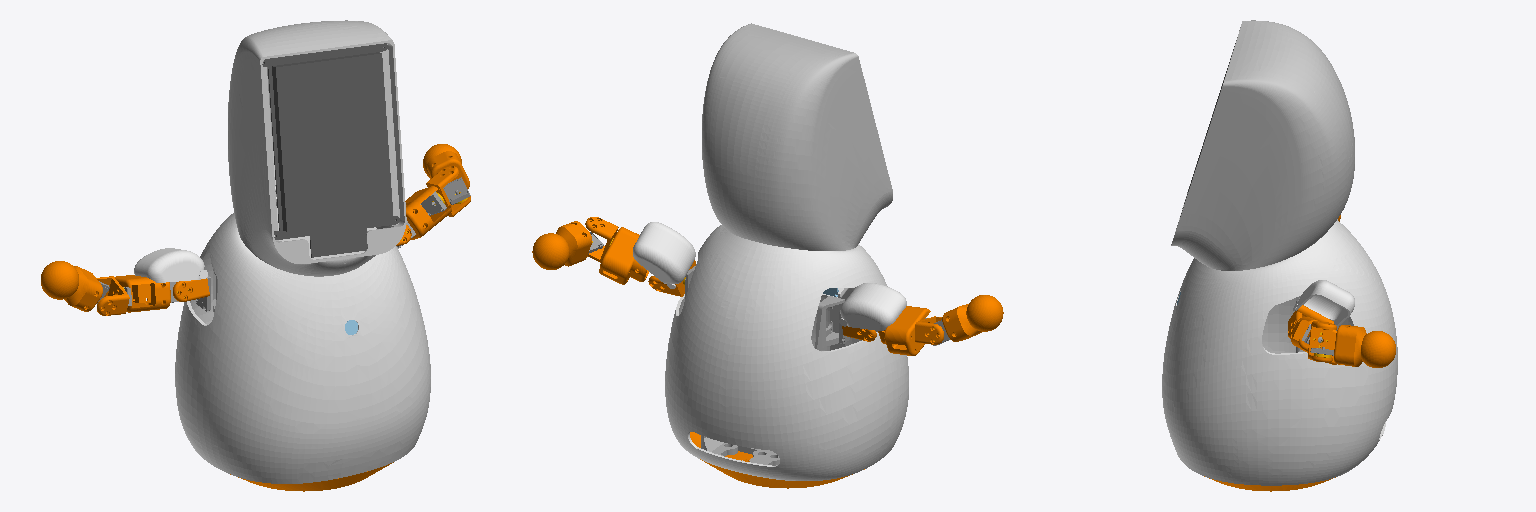
--- What the picture shows (computed from the rendered views, not written in the file) ---
The picture shows the robot from 3 angles, left to right: view 1: azimuth 30°, elevation 25°; view 2: azimuth 150°, elevation 25°; view 3: azimuth 270°, elevation 25°; orthographic projection.
Model simulation with 13 links and 12 joints (12 revolute), rooted at arm_left, posed every joint at zero.
Visible links, largest first — view 1: arm_left, display, xl330___assembly_4, shoulder_pad_2, xl330___assembly, xl330___assembly_3, xl330___assembly_2, elbow_2, elbow, right_shoulder; view 2: arm_left, display, shoulder_pad, shoulder_pad_2, xl330___assembly_2, xl330___assembly_4, xl330___assembly, xl330___assembly_3, elbow, elbow_2; view 3: arm_left, display, xl330___assembly_2, shoulder_pad, elbow, xl330___assembly.
Link boxes in pixels (x1=…): arm_left: x1=175, y1=186, x2=430, y2=491; display: x1=228, y1=20, x2=406, y2=276; xl330___assembly_4: x1=41, y1=261, x2=109, y2=311; shoulder_pad_2: x1=134, y1=248, x2=207, y2=282; xl330___assembly: x1=396, y1=186, x2=451, y2=248; xl330___assembly_3: x1=115, y1=275, x2=188, y2=312; xl330___assembly_2: x1=423, y1=144, x2=470, y2=204; elbow_2: x1=97, y1=276, x2=129, y2=315; elbow: x1=426, y1=166, x2=470, y2=216; right_shoulder: x1=173, y1=278, x2=209, y2=301; arm_left: x1=665, y1=225, x2=908, y2=488; display: x1=702, y1=23, x2=892, y2=250; shoulder_pad: x1=633, y1=222, x2=695, y2=288; shoulder_pad_2: x1=839, y1=283, x2=906, y2=330; xl330___assembly_2: x1=532, y1=221, x2=603, y2=269; xl330___assembly_4: x1=929, y1=295, x2=1003, y2=345; xl330___assembly: x1=599, y1=227, x2=648, y2=284; xl330___assembly_3: x1=878, y1=306, x2=930, y2=355; elbow: x1=585, y1=217, x2=618, y2=262; elbow_2: x1=915, y1=316, x2=943, y2=344; arm_left: x1=1162, y1=220, x2=1397, y2=491; display: x1=1171, y1=20, x2=1354, y2=270; xl330___assembly_2: x1=1310, y1=325, x2=1395, y2=367; shoulder_pad: x1=1293, y1=280, x2=1354, y2=326; elbow: x1=1308, y1=321, x2=1336, y2=362; xl330___assembly: x1=1290, y1=317, x2=1336, y2=364.
Bounding box of the posed robot: 0.4692 × 0.2191 × 0.425 m (x, y, z).
44 mesh visuals loaded from 24 distinct referenced files (20 binary STL); not drawn: 40 (reference not matched to a file when rendering).

URDF robot description (simulation):
<?xml version="1.0" ?>
<!-- Generated using onshape-to-robot -->
<!-- Onshape https://cad.onshape.com/documents/6693e038d6f5b2ee88eb0e81/w/837c8362b0b0bbf41939d6fd/e/ded7f450cb5bd722a96b42b6 -->
<robot name="simulation">
  <!-- Link arm_left -->
  <link name="arm_left">
    <inertial>
      <origin xyz="-3.17599e-06 0.00388989 0.0892117" rpy="0 0 0"/>
      <mass value="0.962064"/>
      <inertia ixx="0.00884827" ixy="5.89089e-07" ixz="-3.11485e-07" iyy="0.00920612" iyz="-0.000275057" izz="0.00704136"/>
    </inertial>
    <!-- Part arm_left -->
    <visual>
      <origin xyz="5.10009e-16 4.44089e-16 0.02" rpy="0 -0 3.14159"/>
      <geometry>
        <mesh filename="../meshes/stl/arm_left.stl"/>
      </geometry>
      <material name="arm_left_material">
        <color rgba="0.701961 0.701961 0.701961 1"/>
      </material>
    </visual>
    <collision>
      <origin xyz="5.10009e-16 4.44089e-16 0.02" rpy="0 -0 3.14159"/>
      <geometry>
        <mesh filename="../meshes/stl/arm_left.stl"/>
      </geometry>
    </collision>
    <!-- Part pi_mount -->
    <visual>
      <origin xyz="7.28584e-16 -2.498e-16 0.02" rpy="1.06331e-16 -4.37906e-47 3.14159"/>
      <geometry>
        <mesh filename="../meshes/stl/pi_mount.stl"/>
      </geometry>
      <material name="pi_mount_material">
        <color rgba="0.901961 0.878431 0.811765 1"/>
      </material>
    </visual>
    <collision>
      <origin xyz="7.28584e-16 -2.498e-16 0.02" rpy="1.06331e-16 -4.37906e-47 3.14159"/>
      <geometry>
        <mesh filename="../meshes/stl/pi_mount.stl"/>
      </geometry>
    </collision>
    <!-- Part arm_right -->
    <visual>
      <origin xyz="-4.996e-16 4.44089e-16 0.02" rpy="0 -0 3.14159"/>
      <geometry>
        <mesh filename="../meshes/stl/arm_right.stl"/>
      </geometry>
      <material name="arm_right_material">
        <color rgba="0.701961 0.701961 0.701961 1"/>
      </material>
    </visual>
    <collision>
      <origin xyz="-4.996e-16 4.44089e-16 0.02" rpy="0 -0 3.14159"/>
      <geometry>
        <mesh filename="../meshes/stl/arm_right.stl"/>
      </geometry>
    </collision>
    <!-- Part camera -->
    <visual>
      <origin xyz="-1.38778e-17 -0.0627719 0.157192" rpy="1.26238 -1.76456e-17 -1.89793e-32"/>
      <geometry>
        <mesh filename="../meshes/stl/camera.stl"/>
      </geometry>
      <material name="camera_material">
        <color rgba="0.615686 0.811765 0.929412 1"/>
      </material>
    </visual>
    <collision>
      <origin xyz="-1.38778e-17 -0.0627719 0.157192" rpy="1.26238 -1.76456e-17 -1.89793e-32"/>
      <geometry>
        <mesh filename="../meshes/stl/camera.stl"/>
      </geometry>
    </collision>
    <!-- Part motor_driver_mount -->
    <visual>
      <origin xyz="7.28584e-16 -2.498e-16 0.02" rpy="0 -0 3.14159"/>
      <geometry>
        <mesh filename="../meshes/stl/motor_driver_mount.stl"/>
      </geometry>
      <material name="motor_driver_mount_material">
        <color rgba="0.498039 0.498039 0.498039 1"/>
      </material>
    </visual>
    <collision>
      <origin xyz="7.28584e-16 -2.498e-16 0.02" rpy="0 -0 3.14159"/>
      <geometry>
        <mesh filename="../meshes/stl/motor_driver_mount.stl"/>
      </geometry>
    </collision>
    <!-- Part body -->
    <visual>
      <origin xyz="-1.73472e-17 -1.66533e-16 0.02" rpy="0 -0 -3.14159"/>
      <geometry>
        <mesh filename="../meshes/stl/body.stl"/>
      </geometry>
      <material name="body_material">
        <color rgba="0.917647 0.917647 0.917647 1"/>
      </material>
    </visual>
    <collision>
      <origin xyz="-1.73472e-17 -1.66533e-16 0.02" rpy="0 -0 -3.14159"/>
      <geometry>
        <mesh filename="../meshes/stl/body.stl"/>
      </geometry>
    </collision>
    <!-- Part base -->
    <visual>
      <origin xyz="0 0 0.02" rpy="0 -0 3.14159"/>
      <geometry>
        <mesh filename="../meshes/stl/base.stl"/>
      </geometry>
      <material name="base_material">
        <color rgba="0.972549 0.529412 0.00392157 1"/>
      </material>
    </visual>
    <collision>
      <origin xyz="0 0 0.02" rpy="0 -0 3.14159"/>
      <geometry>
        <mesh filename="../meshes/stl/base.stl"/>
      </geometry>
    </collision>
    <!-- Part b3b_eh -->
    <visual>
      <origin xyz="0.0721 0.0432 0.170517" rpy="-1.5708 1.5708 0"/>
      <geometry>
        <mesh filename="../meshes/stl/b3b_eh.stl"/>
      </geometry>
      <material name="b3b_eh_material">
        <color rgba="0.980392 0.713725 0.00392157 1"/>
      </material>
    </visual>
    <collision>
      <origin xyz="0.0721 0.0432 0.170517" rpy="-1.5708 1.5708 0"/>
      <geometry>
        <mesh filename="../meshes/stl/b3b_eh.stl"/>
      </geometry>
    </collision>
    <!-- Part bts2_m2_6x8 -->
    <visual>
      <origin xyz="0.0874 0.0355 0.179517" rpy="0 -0 -1.5708"/>
      <geometry>
        <mesh filename="../meshes/stl/bts2_m2_6x8.stl"/>
      </geometry>
      <material name="bts2_m2_6x8_material">
        <color rgba="0.647059 0.647059 0.647059 1"/>
      </material>
    </visual>
    <collision>
      <origin xyz="0.0874 0.0355 0.179517" rpy="0 -0 -1.5708"/>
      <geometry>
        <mesh filename="../meshes/stl/bts2_m2_6x8.stl"/>
      </geometry>
    </collision>
    <!-- Part dc15_a01_case_b_dummy -->
    <visual>
      <origin xyz="0.063 0.0355 0.179517" rpy="1.5708 -0 1.5708"/>
      <geometry>
        <mesh filename="../meshes/stl/dc15_a01_case_b_dummy.stl"/>
      </geometry>
      <material name="dc15_a01_case_b_dummy_material">
        <color rgba="0.615686 0.811765 0.929412 1"/>
      </material>
    </visual>
    <collision>
      <origin xyz="0.063 0.0355 0.179517" rpy="1.5708 -0 1.5708"/>
      <geometry>
        <mesh filename="../meshes/stl/dc15_a01_case_b_dummy.stl"/>
      </geometry>
    </collision>
    <!-- Part b3b_eh_2 -->
    <visual>
      <origin xyz="0.0721 0.0278 0.170517" rpy="1.5708 -1.5708 0"/>
      <geometry>
        <mesh filename="../meshes/stl/b3b_eh.stl"/>
      </geometry>
      <material name="b3b_eh_2_material">
        <color rgba="0.980392 0.713725 0.00392157 1"/>
      </material>
    </visual>
    <collision>
      <origin xyz="0.0721 0.0278 0.170517" rpy="1.5708 -1.5708 0"/>
      <geometry>
        <mesh filename="../meshes/stl/b3b_eh.stl"/>
      </geometry>
    </collision>
    <!-- Part dc15_a01_case_m_dummy -->
    <visual>
      <origin xyz="0.0825 0.0355 0.179517" rpy="1.5708 -0 1.5708"/>
      <geometry>
        <mesh filename="../meshes/stl/dc15_a01_case_m_dummy.stl"/>
      </geometry>
      <material name="dc15_a01_case_m_dummy_material">
        <color rgba="0.231373 0.380392 0.705882 1"/>
      </material>
    </visual>
    <collision>
      <origin xyz="0.0825 0.0355 0.179517" rpy="1.5708 -0 1.5708"/>
      <geometry>
        <mesh filename="../meshes/stl/dc15_a01_case_m_dummy.stl"/>
      </geometry>
    </collision>
    <!-- Part dc15_a01_case_f_dummy -->
    <visual>
      <origin xyz="0.0825 0.0355 0.179517" rpy="1.5708 -0 1.5708"/>
      <geometry>
        <mesh filename="../meshes/stl/dc15_a01_case_f_dummy.stl"/>
      </geometry>
      <material name="dc15_a01_case_f_dummy_material">
        <color rgba="0.647059 0.647059 0.647059 1"/>
      </material>
    </visual>
    <collision>
      <origin xyz="0.0825 0.0355 0.179517" rpy="1.5708 -0 1.5708"/>
      <geometry>
        <mesh filename="../meshes/stl/dc15_a01_case_f_dummy.stl"/>
      </geometry>
    </collision>
    <!-- Part dc15_a01_led_cap2_dummy -->
    <visual>
      <origin xyz="0.0649 0.0355 0.187017" rpy="1.5708 -0 -1.5708"/>
      <geometry>
        <mesh filename="../meshes/stl/dc15_a01_led_cap2_dummy.stl"/>
      </geometry>
      <material name="dc15_a01_led_cap2_dummy_material">
        <color rgba="0.498039 0.498039 0.498039 1"/>
      </material>
    </visual>
    <collision>
      <origin xyz="0.0649 0.0355 0.187017" rpy="1.5708 -0 -1.5708"/>
      <geometry>
        <mesh filename="../meshes/stl/dc15_a01_led_cap2_dummy.stl"/>
      </geometry>
    </collision>
    <!-- Part dc15_a01_horn_dummy -->
    <visual>
      <origin xyz="0.0861 0.0355 0.179517" rpy="0 -0 -1.5708"/>
      <geometry>
        <mesh filename="../meshes/stl/dc15_a01_horn_dummy.stl"/>
      </geometry>
      <material name="dc15_a01_horn_dummy_material">
        <color rgba="0.980392 0.713725 0.00392157 1"/>
      </material>
    </visual>
    <collision>
      <origin xyz="0.0861 0.0355 0.179517" rpy="0 -0 -1.5708"/>
      <geometry>
        <mesh filename="../meshes/stl/dc15_a01_horn_dummy.stl"/>
      </geometry>
    </collision>
    <!-- Part b3b_eh_3 -->
    <visual>
      <origin xyz="-0.0721 0.0278 0.170517" rpy="1.5708 1.5708 0"/>
      <geometry>
        <mesh filename="../meshes/stl/b3b_eh.stl"/>
      </geometry>
      <material name="b3b_eh_3_material">
        <color rgba="0.980392 0.713725 0.00392157 1"/>
      </material>
    </visual>
    <collision>
      <origin xyz="-0.0721 0.0278 0.170517" rpy="1.5708 1.5708 0"/>
      <geometry>
        <mesh filename="../meshes/stl/b3b_eh.stl"/>
      </geometry>
    </collision>
    <!-- Part bts2_m2_6x8_2 -->
    <visual>
      <origin xyz="-0.0874 0.0355 0.179517" rpy="6.88338e-14 2.44249e-15 1.5708"/>
      <geometry>
        <mesh filename="../meshes/stl/bts2_m2_6x8.stl"/>
      </geometry>
      <material name="bts2_m2_6x8_2_material">
        <color rgba="0.647059 0.647059 0.647059 1"/>
      </material>
    </visual>
    <collision>
      <origin xyz="-0.0874 0.0355 0.179517" rpy="6.88338e-14 2.44249e-15 1.5708"/>
      <geometry>
        <mesh filename="../meshes/stl/bts2_m2_6x8.stl"/>
      </geometry>
    </collision>
    <!-- Part dc15_a01_case_b_dummy_2 -->
    <visual>
      <origin xyz="-0.063 0.0355 0.179517" rpy="1.5708 -4.35611e-60 -1.5708"/>
      <geometry>
        <mesh filename="../meshes/stl/dc15_a01_case_b_dummy.stl"/>
      </geometry>
      <material name="dc15_a01_case_b_dummy_2_material">
        <color rgba="0.615686 0.811765 0.929412 1"/>
      </material>
    </visual>
    <collision>
      <origin xyz="-0.063 0.0355 0.179517" rpy="1.5708 -4.35611e-60 -1.5708"/>
      <geometry>
        <mesh filename="../meshes/stl/dc15_a01_case_b_dummy.stl"/>
      </geometry>
    </collision>
    <!-- Part b3b_eh_4 -->
    <visual>
      <origin xyz="-0.0721 0.0432 0.170517" rpy="-1.5708 -1.5708 0"/>
      <geometry>
        <mesh filename="../meshes/stl/b3b_eh.stl"/>
      </geometry>
      <material name="b3b_eh_4_material">
        <color rgba="0.980392 0.713725 0.00392157 1"/>
      </material>
    </visual>
    <collision>
      <origin xyz="-0.0721 0.0432 0.170517" rpy="-1.5708 -1.5708 0"/>
      <geometry>
        <mesh filename="../meshes/stl/b3b_eh.stl"/>
      </geometry>
    </collision>
    <!-- Part dc15_a01_case_m_dummy_2 -->
    <visual>
      <origin xyz="-0.0825 0.0355 0.179517" rpy="1.5708 -4.35611e-60 -1.5708"/>
      <geometry>
        <mesh filename="../meshes/stl/dc15_a01_case_m_dummy.stl"/>
      </geometry>
      <material name="dc15_a01_case_m_dummy_2_material">
        <color rgba="0.231373 0.380392 0.705882 1"/>
      </material>
    </visual>
    <collision>
      <origin xyz="-0.0825 0.0355 0.179517" rpy="1.5708 -4.35611e-60 -1.5708"/>
      <geometry>
        <mesh filename="../meshes/stl/dc15_a01_case_m_dummy.stl"/>
      </geometry>
    </collision>
    <!-- Part dc15_a01_case_f_dummy_2 -->
    <visual>
      <origin xyz="-0.0825 0.0355 0.179517" rpy="1.5708 -4.35611e-60 -1.5708"/>
      <geometry>
        <mesh filename="../meshes/stl/dc15_a01_case_f_dummy.stl"/>
      </geometry>
      <material name="dc15_a01_case_f_dummy_2_material">
        <color rgba="0.647059 0.647059 0.647059 1"/>
      </material>
    </visual>
    <collision>
      <origin xyz="-0.0825 0.0355 0.179517" rpy="1.5708 -4.35611e-60 -1.5708"/>
      <geometry>
        <mesh filename="../meshes/stl/dc15_a01_case_f_dummy.stl"/>
      </geometry>
    </collision>
    <!-- Part dc15_a01_led_cap2_dummy_2 -->
    <visual>
      <origin xyz="-0.0649 0.0355 0.187017" rpy="1.5708 4.88498e-15 1.5708"/>
      <geometry>
        <mesh filename="../meshes/stl/dc15_a01_led_cap2_dummy.stl"/>
      </geometry>
      <material name="dc15_a01_led_cap2_dummy_2_material">
        <color rgba="0.498039 0.498039 0.498039 1"/>
      </material>
    </visual>
    <collision>
      <origin xyz="-0.0649 0.0355 0.187017" rpy="1.5708 4.88498e-15 1.5708"/>
      <geometry>
        <mesh filename="../meshes/stl/dc15_a01_led_cap2_dummy.stl"/>
      </geometry>
    </collision>
    <!-- Part dc15_a01_horn_dummy_2 -->
    <visual>
      <origin xyz="-0.0861 0.0355 0.179517" rpy="6.88338e-14 2.44249e-15 1.5708"/>
      <geometry>
        <mesh filename="../meshes/stl/dc15_a01_horn_dummy.stl"/>
      </geometry>
      <material name="dc15_a01_horn_dummy_2_material">
        <color rgba="0.980392 0.713725 0.00392157 1"/>
      </material>
    </visual>
    <collision>
      <origin xyz="-0.0861 0.0355 0.179517" rpy="6.88338e-14 2.44249e-15 1.5708"/>
      <geometry>
        <mesh filename="../meshes/stl/dc15_a01_horn_dummy.stl"/>
      </geometry>
    </collision>
  </link>
  <!-- Link display -->
  <link name="display">
    <inertial>
      <origin xyz="-5.0686e-05 0.0320592 -0.0801634" rpy="0 0 0"/>
      <mass value="0.287619"/>
      <inertia ixx="0.001846" ixy="-2.13799e-06" ixz="2.00667e-06" iyy="0.00175482" iyz="0.000397546" izz="0.00143822"/>
    </inertial>
    <!-- Part display -->
    <visual>
      <origin xyz="-4.14599e-16 -0.0108406 -0.114141" rpy="-2.1283 -4.78151e-17 -3.14159"/>
      <geometry>
        <mesh filename="../meshes/stl/display.stl"/>
      </geometry>
      <material name="display_material">
        <color rgba="0.4 0.4 0.4 1"/>
      </material>
    </visual>
    <collision>
      <origin xyz="-4.14599e-16 -0.0108406 -0.114141" rpy="-2.1283 -4.78151e-17 -3.14159"/>
      <geometry>
        <mesh filename="../meshes/stl/display.stl"/>
      </geometry>
    </collision>
    <!-- Part head -->
    <visual>
      <origin xyz="5.20417e-18 -0.0513986 0.201124" rpy="-2.86234 7.74024e-17 -9.29875e-18"/>
      <geometry>
        <mesh filename="../meshes/stl/head.stl"/>
      </geometry>
      <material name="head_material">
        <color rgba="0.8 0.8 0.8 1"/>
      </material>
    </visual>
    <collision>
      <origin xyz="5.20417e-18 -0.0513986 0.201124" rpy="-2.86234 7.74024e-17 -9.29875e-18"/>
      <geometry>
        <mesh filename="../meshes/stl/head.stl"/>
      </geometry>
    </collision>
  </link>
  <!-- Joint from arm_left to display -->
  <joint name="head" type="revolute">
    <origin xyz="-2.94903e-17 -0.00602975 0.2275" rpy="2.86514 -0.0399496 3.00174"/>
    <parent link="arm_left"/>
    <child link="display"/>
    <axis xyz="0 0 1"/>
    <limit effort="10" velocity="10" lower="-3.141592653589793" upper="3.141592653589793"/>
  </joint>
  <!-- Link rotating_base -->
  <link name="rotating_base">
    <inertial>
      <origin xyz="6.62756e-19 -4.65067e-18 -0.0063788" rpy="0 0 0"/>
      <mass value="0.0534583"/>
      <inertia ixx="5.94455e-05" ixy="0" ixz="0" iyy="5.94455e-05" iyz="0" izz="0.000118754"/>
    </inertial>
    <!-- Part rotating_base -->
    <visual>
      <origin xyz="0 -5.20475e-19 0.012" rpy="0 -0 3.14159"/>
      <geometry>
        <mesh filename="../meshes/stl/rotating_base.stl"/>
      </geometry>
      <material name="rotating_base_material">
        <color rgba="0.917647 0.917647 0.917647 1"/>
      </material>
    </visual>
    <collision>
      <origin xyz="0 -5.20475e-19 0.012" rpy="0 -0 3.14159"/>
      <geometry>
        <mesh filename="../meshes/stl/rotating_base.stl"/>
      </geometry>
    </collision>
  </link>
  <!-- Joint from arm_left to rotating_base -->
  <joint name="base" type="revolute">
    <origin xyz="0 -5.20475e-19 0.008" rpy="0 -0 3.14159"/>
    <parent link="arm_left"/>
    <child link="rotating_base"/>
    <axis xyz="0 0 1"/>
    <limit effort="10" velocity="10" lower="-3.141592653589793" upper="3.141592653589793"/>
  </joint>
  <!-- Link left_shoulder -->
  <link name="left_shoulder">
    <inertial>
      <origin xyz="0.000954891 0.00228907 -0.0110516" rpy="0 0 0"/>
      <mass value="0.0105595"/>
      <inertia ixx="1.49349e-06" ixy="-1.08642e-09" ixz="-1.06526e-08" iyy="2.9353e-06" iyz="-1.55193e-07" izz="2.46233e-06"/>
    </inertial>
    <!-- Part left_shoulder -->
    <visual>
      <origin xyz="0.0355 -0.179517 0.089" rpy="-1.5708 -1.5708 0"/>
      <geometry>
        <mesh filename="../meshes/stl/left_shoulder.stl"/>
      </geometry>
      <material name="left_shoulder_material">
        <color rgba="0.972549 0.529412 0.00392157 1"/>
      </material>
    </visual>
    <collision>
      <origin xyz="0.0355 -0.179517 0.089" rpy="-1.5708 -1.5708 0"/>
      <geometry>
        <mesh filename="../meshes/stl/left_shoulder.stl"/>
      </geometry>
    </collision>
  </link>
  <!-- Link shoulder_pad -->
  <link name="shoulder_pad">
    <inertial>
      <origin xyz="0.0249562 0.0106205 -0.017979" rpy="0 0 0"/>
      <mass value="0.0123034"/>
      <inertia ixx="3.51415e-06" ixy="3.49578e-07" ixz="-3.32541e-09" iyy="6.33798e-06" iyz="1.93855e-09" izz="4.31141e-06"/>
    </inertial>
    <!-- Part shoulder_pad -->
    <visual>
      <origin xyz="-0.0935 -0.191017 -0.0525" rpy="-1.5708 2.18947e-17 1.35963e-17"/>
      <geometry>
        <mesh filename="../meshes/stl/shoulder_pad.stl"/>
      </geometry>
      <material name="shoulder_pad_material">
        <color rgba="0.917647 0.917647 0.917647 1"/>
      </material>
    </visual>
    <collision>
      <origin xyz="-0.0935 -0.191017 -0.0525" rpy="-1.5708 2.18947e-17 1.35963e-17"/>
      <geometry>
        <mesh filename="../meshes/stl/shoulder_pad.stl"/>
      </geometry>
    </collision>
  </link>
  <!-- Joint from left_shoulder to shoulder_pad -->
  <joint name="left_shoulder_pad" type="revolute">
    <origin xyz="0.0189997 0.0115 -0.0045" rpy="1.5708 0.676598 1.5708"/>
    <parent link="left_shoulder"/>
    <child link="shoulder_pad"/>
    <axis xyz="0 0 1"/>
    <limit effort="10" velocity="10" lower="-3.141592653589793" upper="3.141592653589793"/>
  </joint>
  <!-- Link xl330___assembly -->
  <link name="xl330___assembly">
    <inertial>
      <origin xyz="-6.8305e-06 0.0295432 -0.0158499" rpy="0 0 0"/>
      <mass value="0.0655349"/>
      <inertia ixx="3.34493e-05" ixy="7.73712e-11" ixz="-1.54866e-09" iyy="1.25704e-05" iyz="4.35359e-06" izz="2.88274e-05"/>
    </inertial>
    <!-- Part left_upperarm -->
    <visual>
      <origin xyz="0.179517 -0.1135 0.0218003" rpy="1.5708 -5.1276e-14 -1.5708"/>
      <geometry>
        <mesh filename="../meshes/stl/left_upperarm.stl"/>
      </geometry>
      <material name="left_upperarm_material">
        <color rgba="0.972549 0.529412 0.00392157 1"/>
      </material>
    </visual>
    <collision>
      <origin xyz="0.179517 -0.1135 0.0218003" rpy="1.5708 -5.1276e-14 -1.5708"/>
      <geometry>
        <mesh filename="../meshes/stl/left_upperarm.stl"/>
      </geometry>
    </collision>
    <!-- Part b3b_eh_5 -->
    <visual>
      <origin xyz="-0.0077 0.0407 -0.0212" rpy="-3.14159 1.5708 0"/>
      <geometry>
        <mesh filename="../meshes/stl/b3b_eh.stl"/>
      </geometry>
      <material name="b3b_eh_5_material">
        <color rgba="0.980392 0.713725 0.00392157 1"/>
      </material>
    </visual>
    <collision>
      <origin xyz="-0.0077 0.0407 -0.0212" rpy="-3.14159 1.5708 0"/>
      <geometry>
        <mesh filename="../meshes/stl/b3b_eh.stl"/>
      </geometry>
    </collision>
    <!-- Part bts2_m2_6x8_3 -->
    <visual>
      <origin xyz="1.65371e-10 0.056 -0.0122" rpy="-7.66111e-14 4.81558e-15 -4.33951e-13"/>
      <geometry>
        <mesh filename="../meshes/stl/bts2_m2_6x8.stl"/>
      </geometry>
      <material name="bts2_m2_6x8_3_material">
        <color rgba="0.647059 0.647059 0.647059 1"/>
      </material>
    </visual>
    <collision>
      <origin xyz="1.65371e-10 0.056 -0.0122" rpy="-7.66111e-14 4.81558e-15 -4.33951e-13"/>
      <geometry>
        <mesh filename="../meshes/stl/bts2_m2_6x8.stl"/>
      </geometry>
    </collision>
    <!-- Part dc15_a01_case_b_dummy_3 -->
    <visual>
      <origin xyz="1.65363e-10 0.0316 -0.0122" rpy="1.5708 5.98975e-15 3.14159"/>
      <geometry>
        <mesh filename="../meshes/stl/dc15_a01_case_b_dummy.stl"/>
      </geometry>
      <material name="dc15_a01_case_b_dummy_3_material">
        <color rgba="0.615686 0.811765 0.929412 1"/>
      </material>
    </visual>
    <collision>
      <origin xyz="1.65363e-10 0.0316 -0.0122" rpy="1.5708 5.98975e-15 3.14159"/>
      <geometry>
        <mesh filename="../meshes/stl/dc15_a01_case_b_dummy.stl"/>
      </geometry>
    </collision>
    <!-- Part b3b_eh_6 -->
    <visual>
      <origin xyz="0.0077 0.0407 -0.0212" rpy="3.14159 -1.5708 0"/>
      <geometry>
        <mesh filename="../meshes/stl/b3b_eh.stl"/>
      </geometry>
      <material name="b3b_eh_6_material">
        <color rgba="0.980392 0.713725 0.00392157 1"/>
      </material>
    </visual>
    <collision>
      <origin xyz="0.0077 0.0407 -0.0212" rpy="3.14159 -1.5708 0"/>
      <geometry>
        <mesh filename="../meshes/stl/b3b_eh.stl"/>
      </geometry>
    </collision>
    <!-- Part dc15_a01_case_m_dummy_3 -->
    <visual>
      <origin xyz="1.6537e-10 0.0511 -0.0122" rpy="1.5708 5.98975e-15 3.14159"/>
      <geometry>
        <mesh filename="../meshes/stl/dc15_a01_case_m_dummy.stl"/>
      </geometry>
      <material name="dc15_a01_case_m_dummy_3_material">
        <color rgba="0.231373 0.380392 0.705882 1"/>
      </material>
    </visual>
    <collision>
      <origin xyz="1.6537e-10 0.0511 -0.0122" rpy="1.5708 5.98975e-15 3.14159"/>
      <geometry>
        <mesh filename="../meshes/stl/dc15_a01_case_m_dummy.stl"/>
      </geometry>
    </collision>
    <!-- Part dc15_a01_case_f_dummy_3 -->
    <visual>
      <origin xyz="1.6537e-10 0.0511 -0.0122" rpy="1.5708 5.98975e-15 3.14159"/>
      <geometry>
        <mesh filename="../meshes/stl/dc15_a01_case_f_dummy.stl"/>
      </geometry>
      <material name="dc15_a01_case_f_dummy_3_material">
        <color rgba="0.647059 0.647059 0.647059 1"/>
      </material>
    </visual>
    <collision>
      <origin xyz="1.6537e-10 0.0511 -0.0122" rpy="1.5708 5.98975e-15 3.14159"/>
      <geometry>
        <mesh filename="../meshes/stl/dc15_a01_case_f_dummy.stl"/>
      </geometry>
    </collision>
    <!-- Part dc15_a01_led_cap2_dummy_3 -->
    <visual>
      <origin xyz="1.65363e-10 0.0335 -0.0047" rpy="1.5708 -7.79053e-15 -4.32088e-13"/>
      <geometry>
        <mesh filename="../meshes/stl/dc15_a01_led_cap2_dummy.stl"/>
      </geometry>
      <material name="dc15_a01_led_cap2_dummy_3_material">
        <color rgba="0.498039 0.498039 0.498039 1"/>
      </material>
    </visual>
    <collision>
      <origin xyz="1.65363e-10 0.0335 -0.0047" rpy="1.5708 -7.79053e-15 -4.32088e-13"/>
      <geometry>
        <mesh filename="../meshes/stl/dc15_a01_led_cap2_dummy.stl"/>
      </geometry>
    </collision>
    <!-- Part dc15_a01_horn_dummy_3 -->
    <visual>
      <origin xyz="1.65371e-10 0.0547 -0.0122" rpy="-7.66111e-14 4.81558e-15 -4.33951e-13"/>
      <geometry>
        <mesh filename="../meshes/stl/dc15_a01_horn_dummy.stl"/>
      </geometry>
      <material name="dc15_a01_horn_dummy_3_material">
        <color rgba="0.980392 0.713725 0.00392157 1"/>
      </material>
    </visual>
    <collision>
      <origin xyz="1.65371e-10 0.0547 -0.0122" rpy="-7.66111e-14 4.81558e-15 -4.33951e-13"/>
      <geometry>
        <mesh filename="../meshes/stl/dc15_a01_horn_dummy.stl"/>
      </geometry>
    </collision>
    <!-- Part b3b_eh_7 -->
    <visual>
      <origin xyz="-0.0077 0.00899999 -0.0169" rpy="-1.5708 1.00771e-14 1.5708"/>
      <geometry>
        <mesh filename="../meshes/stl/b3b_eh.stl"/>
      </geometry>
      <material name="b3b_eh_7_material">
        <color rgba="0.980392 0.713725 0.00392157 1"/>
      </material>
    </visual>
    <collision>
      <origin xyz="-0.0077 0.00899999 -0.0169" rpy="-1.5708 1.00771e-14 1.5708"/>
      <geometry>
        <mesh filename="../meshes/stl/b3b_eh.stl"/>
      </geometry>
    </collision>
    <!-- Part bts2_m2_6x8_4 -->
    <visual>
      <origin xyz="1.65354e-10 -5.83178e-09 -0.0016" rpy="1.5708 -1.47126e-17 -5.32403e-17"/>
      <geometry>
        <mesh filename="../meshes/stl/bts2_m2_6x8.stl"/>
      </geometry>
      <material name="bts2_m2_6x8_4_material">
        <color rgba="0.647059 0.647059 0.647059 1"/>
      </material>
    </visual>
    <collision>
      <origin xyz="1.65354e-10 -5.83178e-09 -0.0016" rpy="1.5708 -1.47126e-17 -5.32403e-17"/>
      <geometry>
        <mesh filename="../meshes/stl/bts2_m2_6x8.stl"/>
      </geometry>
    </collision>
    <!-- Part dc15_a01_case_b_dummy_4 -->
    <visual>
      <origin xyz="1.65354e-10 -5.83177e-09 -0.026" rpy="2.93328e-15 5.22265e-15 3.14159"/>
      <geometry>
        <mesh filename="../meshes/stl/dc15_a01_case_b_dummy.stl"/>
      </geometry>
      <material name="dc15_a01_case_b_dummy_4_material">
        <color rgba="0.615686 0.811765 0.929412 1"/>
      </material>
    </visual>
    <collision>
      <origin xyz="1.65354e-10 -5.83177e-09 -0.026" rpy="2.93328e-15 5.22265e-15 3.14159"/>
      <geometry>
        <mesh filename="../meshes/stl/dc15_a01_case_b_dummy.stl"/>
      </geometry>
    </collision>
    <!-- Part b3b_eh_8 -->
    <visual>
      <origin xyz="0.0077 0.00899999 -0.0169" rpy="-1.5708 -1.27087e-14 -1.5708"/>
      <geometry>
        <mesh filename="../meshes/stl/b3b_eh.stl"/>
      </geometry>
      <material name="b3b_eh_8_material">
        <color rgba="0.980392 0.713725 0.00392157 1"/>
      </material>
    </visual>
    <collision>
      <origin xyz="0.0077 0.00899999 -0.0169" rpy="-1.5708 -1.27087e-14 -1.5708"/>
      <geometry>
        <mesh filename="../meshes/stl/b3b_eh.stl"/>
      </geometry>
    </collision>
    <!-- Part dc15_a01_case_m_dummy_4 -->
    <visual>
      <origin xyz="1.65355e-10 -5.83178e-09 -0.0065" rpy="2.93328e-15 5.22265e-15 3.14159"/>
      <geometry>
        <mesh filename="../meshes/stl/dc15_a01_case_m_dummy.stl"/>
      </geometry>
      <material name="dc15_a01_case_m_dummy_4_material">
        <color rgba="0.231373 0.380392 0.705882 1"/>
      </material>
    </visual>
    <collision>
      <origin xyz="1.65355e-10 -5.83178e-09 -0.0065" rpy="2.93328e-15 5.22265e-15 3.14159"/>
      <geometry>
        <mesh filename="../meshes/stl/dc15_a01_case_m_dummy.stl"/>
      </geometry>
    </collision>
    <!-- Part dc15_a01_case_f_dummy_4 -->
    <visual>
      <origin xyz="1.65355e-10 -5.83178e-09 -0.0065" rpy="2.93328e-15 5.22265e-15 3.14159"/>
      <geometry>
        <mesh filename="../meshes/stl/dc15_a01_case_f_dummy.stl"/>
      </geometry>
      <material name="dc15_a01_case_f_dummy_4_material">
        <color rgba="0.647059 0.647059 0.647059 1"/>
      </material>
    </visual>
    <collision>
      <origin xyz="1.65355e-10 -5.83178e-09 -0.0065" rpy="2.93328e-15 5.22265e-15 3.14159"/>
      <geometry>
        <mesh filename="../meshes/stl/dc15_a01_case_f_dummy.stl"/>
      </geometry>
    </collision>
    <!-- Part dc15_a01_led_cap2_dummy_4 -->
    <visual>
      <origin xyz="1.65354e-10 -0.00750001 -0.0241" rpy="3.14159 2.53383e-15 2.35632e-15"/>
      <geometry>
        <mesh filename="../meshes/stl/dc15_a01_led_cap2_dummy.stl"/>
      </geometry>
      <material name="dc15_a01_led_cap2_dummy_4_material">
        <color rgba="0.498039 0.498039 0.498039 1"/>
      </material>
    </visual>
    <collision>
      <origin xyz="1.65354e-10 -0.00750001 -0.0241" rpy="3.14159 2.53383e-15 2.35632e-15"/>
      <geometry>
        <mesh filename="../meshes/stl/dc15_a01_led_cap2_dummy.stl"/>
      </geometry>
    </collision>
    <!-- Part dc15_a01_horn_dummy_4 -->
    <visual>
      <origin xyz="1.65355e-10 -5.83177e-09 -0.0029" rpy="1.5708 -1.47126e-17 -5.32403e-17"/>
      <geometry>
        <mesh filename="../meshes/stl/dc15_a01_horn_dummy.stl"/>
      </geometry>
      <material name="dc15_a01_horn_dummy_4_material">
        <color rgba="0.980392 0.713725 0.00392157 1"/>
      </material>
    </visual>
    <collision>
      <origin xyz="1.65355e-10 -5.83177e-09 -0.0029" rpy="1.5708 -1.47126e-17 -5.32403e-17"/>
      <geometry>
        <mesh filename="../meshes/stl/dc15_a01_horn_dummy.stl"/>
      </geometry>
    </collision>
  </link>
  <!-- Link elbow -->
  <link name="elbow">
    <inertial>
      <origin xyz="0.000871312 -0.000341746 -0.0102895" rpy="0 0 0"/>
      <mass value="0.00742746"/>
      <inertia ixx="9.40166e-07" ixy="4.20493e-07" ixz="-7.18062e-09" iyy="1.84733e-06" iyz="2.81638e-09" izz="1.69897e-06"/>
    </inertial>
    <!-- Part elbow -->
    <visual>
      <origin xyz="0.0985973 0.154159 0.094" rpy="1.94458 1.5708 0"/>
      <geometry>
        <mesh filename="../meshes/stl/elbow.stl"/>
      </geometry>
      <material name="elbow_material">
        <color rgba="0.972549 0.529412 0.00392157 1"/>
      </material>
    </visual>
    <collision>
      <origin xyz="0.0985973 0.154159 0.094" rpy="1.94458 1.5708 0"/>
      <geometry>
        <mesh filename="../meshes/stl/elbow.stl"/>
      </geometry>
    </collision>
  </link>
  <!-- Link xl330___assembly_2 -->
  <link name="xl330___assembly_2">
    <inertial>
      <origin xyz="-3.22999e-06 0.0310227 -0.0130404" rpy="0 0 0"/>
      <mass value="0.0702024"/>
      <inertia ixx="3.54653e-05" ixy="-3.77028e-09" ixz="-1.27954e-11" iyy="9.41966e-06" iyz="1.44438e-06" izz="3.39167e-05"/>
    </inertial>
    <!-- Part hand -->
    <visual>
      <origin xyz="-0.179517 -0.1953 0.0203006" rpy="1.5708 1.50922e-13 1.5708"/>
      <geometry>
        <mesh filename="../meshes/stl/hand.stl"/>
      </geometry>
      <material name="hand_material">
        <color rgba="0.972549 0.529412 0.00392157 1"/>
      </material>
    </visual>
    <collision>
      <origin xyz="-0.179517 -0.1953 0.0203006" rpy="1.5708 1.50922e-13 1.5708"/>
      <geometry>
        <mesh filename="../meshes/stl/hand.stl"/>
      </geometry>
    </collision>
    <!-- Part b3b_eh_9 -->
    <visual>
      <origin xyz="-0.0077 0.009 -0.0169" rpy="-1.5708 -6.14875e-18 1.5708"/>
      <geometry>
        <mesh filename="../meshes/stl/b3b_eh.stl"/>
      </geometry>
      <material name="b3b_eh_9_material">
        <color rgba="0.980392 0.713725 0.00392157 1"/>
      </material>
    </visual>
    <collision>
      <origin xyz="-0.0077 0.009 -0.0169" rpy="-1.5708 -6.14875e-18 1.5708"/>
      <geometry>
        <mesh filename="../meshes/stl/b3b_eh.stl"/>
      </geometry>
    </collision>
    <!-- Part bts2_m2_6x8_5 -->
    <visual>
      <origin xyz="-2.77556e-17 -8.18789e-16 -0.0016" rpy="1.5708 1.67336e-18 3.94014e-17"/>
      <geometry>
        <mesh filename="../meshes/stl/bts2_m2_6x8.stl"/>
      </geometry>
      <material name="bts2_m2_6x8_5_material">
        <color rgba="0.647059 0.647059 0.647059 1"/>
      </material>
    </visual>
    <collision>
      <origin xyz="-2.77556e-17 -8.18789e-16 -0.0016" rpy="1.5708 1.67336e-18 3.94014e-17"/>
      <geometry>
        <mesh filename="../meshes/stl/bts2_m2_6x8.stl"/>
      </geometry>
    </collision>
    <!-- Part dc15_a01_case_b_dummy_5 -->
    <visual>
      <origin xyz="-9.15934e-16 -3.747e-16 -0.026" rpy="-6.14875e-18 -1.67336e-18 -3.14159"/>
      <geometry>
        <mesh filename="../meshes/stl/dc15_a01_case_b_dummy.stl"/>
      </geometry>
      <material name="dc15_a01_case_b_dummy_5_material">
        <color rgba="0.615686 0.811765 0.929412 1"/>
      </material>
    </visual>
    <collision>
      <origin xyz="-9.15934e-16 -3.747e-16 -0.026" rpy="-6.14875e-18 -1.67336e-18 -3.14159"/>
      <geometry>
        <mesh filename="../meshes/stl/dc15_a01_case_b_dummy.stl"/>
      </geometry>
    </collision>
    <!-- Part b3b_eh_10 -->
    <visual>
      <origin xyz="0.0077 0.009 -0.0169" rpy="-1.5708 6.14875e-18 -1.5708"/>
      <geometry>
        <mesh filename="../meshes/stl/b3b_eh.stl"/>
      </geometry>
      <material name="b3b_eh_10_material">
        <color rgba="0.980392 0.713725 0.00392157 1"/>
      </material>
    </visual>
    <collision>
      <origin xyz="0.0077 0.009 -0.0169" rpy="-1.5708 6.14875e-18 -1.5708"/>
      <geometry>
        <mesh filename="../meshes/stl/b3b_eh.stl"/>
      </geometry>
    </collision>
    <!-- Part dc15_a01_case_m_dummy_5 -->
    <visual>
      <origin xyz="-1.94289e-16 -4.16334e-16 -0.0065" rpy="-6.14875e-18 -1.67336e-18 -3.14159"/>
      <geometry>
        <mesh filename="../meshes/stl/dc15_a01_case_m_dummy.stl"/>
      </geometry>
      <material name="dc15_a01_case_m_dummy_5_material">
        <color rgba="0.231373 0.380392 0.705882 1"/>
      </material>
    </visual>
    <collision>
      <origin xyz="-1.94289e-16 -4.16334e-16 -0.0065" rpy="-6.14875e-18 -1.67336e-18 -3.14159"/>
      <geometry>
        <mesh filename="../meshes/stl/dc15_a01_case_m_dummy.stl"/>
      </geometry>
    </collision>
    <!-- Part dc15_a01_case_f_dummy_5 -->
    <visual>
      <origin xyz="-1.94289e-16 -4.16334e-16 -0.0065" rpy="-6.14875e-18 -1.67336e-18 -3.14159"/>
      <geometry>
        <mesh filename="../meshes/stl/dc15_a01_case_f_dummy.stl"/>
      </geometry>
      <material name="dc15_a01_case_f_dummy_5_material">
        <color rgba="0.647059 0.647059 0.647059 1"/>
      </material>
    </visual>
    <collision>
      <origin xyz="-1.94289e-16 -4.16334e-16 -0.0065" rpy="-6.14875e-18 -1.67336e-18 -3.14159"/>
      <geometry>
        <mesh filename="../meshes/stl/dc15_a01_case_f_dummy.stl"/>
      </geometry>
    </collision>
    <!-- Part dc15_a01_led_cap2_dummy_5 -->
    <visual>
      <origin xyz="-1.11022e-16 -0.0075 -0.0241" rpy="-3.14159 1.67336e-18 3.94014e-17"/>
      <geometry>
        <mesh filename="../meshes/stl/dc15_a01_led_cap2_dummy.stl"/>
      </geometry>
      <material name="dc15_a01_led_cap2_dummy_5_material">
        <color rgba="0.498039 0.498039 0.498039 1"/>
      </material>
    </visual>
    <collision>
      <origin xyz="-1.11022e-16 -0.0075 -0.0241" rpy="-3.14159 1.67336e-18 3.94014e-17"/>
      <geometry>
        <mesh filename="../meshes/stl/dc15_a01_led_cap2_dummy.stl"/>
      </geometry>
    </collision>
    <!-- Part dc15_a01_horn_dummy_5 -->
    <visual>
      <origin xyz="-2.77556e-17 -4.16334e-17 -0.0029" rpy="1.5708 1.67336e-18 3.94014e-17"/>
      <geometry>
        <mesh filename="../meshes/stl/dc15_a01_horn_dummy.stl"/>
      </geometry>
      <material name="dc15_a01_horn_dummy_5_material">
        <color rgba="0.980392 0.713725 0.00392157 1"/>
      </material>
    </visual>
    <collision>
      <origin xyz="-2.77556e-17 -4.16334e-17 -0.0029" rpy="1.5708 1.67336e-18 3.94014e-17"/>
      <geometry>
        <mesh filename="../meshes/stl/dc15_a01_horn_dummy.stl"/>
      </geometry>
    </collision>
  </link>
  <!-- Joint from elbow to xl330___assembly_2 -->
  <joint name="left_arm_4" type="revolute">
    <origin xyz="0.0133123 -0.00522136 -0.0195" rpy="-1.5708 -1.0755 -1.94458"/>
    <parent link="elbow"/>
    <child link="xl330___assembly_2"/>
    <axis xyz="0 0 1"/>
    <limit effort="10" velocity="10" lower="-3.141592653589793" upper="3.141592653589793"/>
  </joint>
  <!-- Joint from xl330___assembly to elbow -->
  <joint name="left_arm_3" type="revolute">
    <origin xyz="1.77081e-14 0.0576 -0.0122" rpy="1.5708 4.81558e-15 -4.33951e-13"/>
    <parent link="xl330___assembly"/>
    <child link="elbow"/>
    <axis xyz="0 0 1"/>
    <limit effort="10" velocity="10" lower="-3.141592653589793" upper="3.141592653589793"/>
  </joint>
  <!-- Joint from left_shoulder to xl330___assembly -->
  <joint name="left_arm_2" type="revolute">
    <origin xyz="0.0142997 3.05311e-16 -0.0245" rpy="-1.5708 0.406917 -1.5708"/>
    <parent link="left_shoulder"/>
    <child link="xl330___assembly"/>
    <axis xyz="0 0 1"/>
    <limit effort="10" velocity="10" lower="-3.141592653589793" upper="3.141592653589793"/>
  </joint>
  <!-- Joint from arm_left to left_shoulder -->
  <joint name="left_arm_1" type="revolute">
    <origin xyz="0.089 0.0355 0.179517" rpy="1.5708 -0.533962 -1.5708"/>
    <parent link="arm_left"/>
    <child link="left_shoulder"/>
    <axis xyz="0 0 1"/>
    <limit effort="10" velocity="10" lower="-3.141592653589793" upper="3.141592653589793"/>
  </joint>
  <!-- Link right_shoulder -->
  <link name="right_shoulder">
    <inertial>
      <origin xyz="0.000954891 -0.00228907 -0.0110516" rpy="0 0 0"/>
      <mass value="0.0105595"/>
      <inertia ixx="1.4935e-06" ixy="1.08652e-09" ixz="-1.06527e-08" iyy="2.9353e-06" iyz="1.55193e-07" izz="2.46233e-06"/>
    </inertial>
    <!-- Part right_shoulder -->
    <visual>
      <origin xyz="0.0355 0.179517 0.089" rpy="1.5708 1.5708 0"/>
      <geometry>
        <mesh filename="../meshes/stl/right_shoulder.stl"/>
      </geometry>
      <material name="right_shoulder_material">
        <color rgba="0.972549 0.529412 0.00392157 1"/>
      </material>
    </visual>
    <collision>
      <origin xyz="0.0355 0.179517 0.089" rpy="1.5708 1.5708 0"/>
      <geometry>
        <mesh filename="../meshes/stl/right_shoulder.stl"/>
      </geometry>
    </collision>
  </link>
  <!-- Link shoulder_pad_2 -->
  <link name="shoulder_pad_2">
    <inertial>
      <origin xyz="0.0249562 0.0106205 -0.017979" rpy="0 0 0"/>
      <mass value="0.0123034"/>
      <inertia ixx="3.51415e-06" ixy="3.49578e-07" ixz="-3.32541e-09" iyy="6.33798e-06" iyz="1.93855e-09" izz="4.31141e-06"/>
    </inertial>
    <!-- Part shoulder_pad_2 -->
    <visual>
      <origin xyz="-0.0935 -0.191017 -0.0525" rpy="-1.5708 6.2867e-17 2.89346e-17"/>
      <geometry>
        <mesh filename="../meshes/stl/shoulder_pad.stl"/>
      </geometry>
      <material name="shoulder_pad_2_material">
        <color rgba="0.917647 0.917647 0.917647 1"/>
      </material>
    </visual>
    <collision>
      <origin xyz="-0.0935 -0.191017 -0.0525" rpy="-1.5708 6.2867e-17 2.89346e-17"/>
      <geometry>
        <mesh filename="../meshes/stl/shoulder_pad.stl"/>
      </geometry>
    </collision>
  </link>
  <!-- Joint from right_shoulder to shoulder_pad_2 -->
  <joint name="right_shoulder_pad" type="revolute">
    <origin xyz="-0.017 -0.0115 -0.0045" rpy="1.5708 1.42679 -1.5708"/>
    <parent link="right_shoulder"/>
    <child link="shoulder_pad_2"/>
    <axis xyz="0 0 1"/>
    <limit effort="10" velocity="10" lower="-3.141592653589793" upper="3.141592653589793"/>
  </joint>
  <!-- Link xl330___assembly_3 -->
  <link name="xl330___assembly_3">
    <inertial>
      <origin xyz="-6.8549e-06 0.0295432 -0.0158499" rpy="0 0 0"/>
      <mass value="0.0655349"/>
      <inertia ixx="3.34493e-05" ixy="7.41815e-11" ixz="-1.56344e-09" iyy="1.25704e-05" iyz="4.35359e-06" izz="2.88274e-05"/>
    </inertial>
    <!-- Part right_upperarm -->
    <visual>
      <origin xyz="-0.179517 -0.1135 0.0218003" rpy="1.5708 4.80142e-15 1.5708"/>
      <geometry>
        <mesh filename="../meshes/stl/right_upperarm.stl"/>
      </geometry>
      <material name="right_upperarm_material">
        <color rgba="0.972549 0.529412 0.00392157 1"/>
      </material>
    </visual>
    <collision>
      <origin xyz="-0.179517 -0.1135 0.0218003" rpy="1.5708 4.80142e-15 1.5708"/>
      <geometry>
        <mesh filename="../meshes/stl/right_upperarm.stl"/>
      </geometry>
    </collision>
    <!-- Part b3b_eh_11 -->
    <visual>
      <origin xyz="-0.0077 0.00899999 -0.0169" rpy="-1.5708 -1.68558e-15 1.5708"/>
      <geometry>
        <mesh filename="../meshes/stl/b3b_eh.stl"/>
      </geometry>
      <material name="b3b_eh_11_material">
        <color rgba="0.980392 0.713725 0.00392157 1"/>
      </material>
    </visual>
    <collision>
      <origin xyz="-0.0077 0.00899999 -0.0169" rpy="-1.5708 -1.68558e-15 1.5708"/>
      <geometry>
        <mesh filename="../meshes/stl/b3b_eh.stl"/>
      </geometry>
    </collision>
    <!-- Part bts2_m2_6x8_6 -->
    <visual>
      <origin xyz="1.65355e-10 -5.83177e-09 -0.0016" rpy="1.5708 -1.80133e-17 -5.81708e-18"/>
      <geometry>
        <mesh filename="../meshes/stl/bts2_m2_6x8.stl"/>
      </geometry>
      <material name="bts2_m2_6x8_6_material">
        <color rgba="0.647059 0.647059 0.647059 1"/>
      </material>
    </visual>
    <collision>
      <origin xyz="1.65355e-10 -5.83177e-09 -0.0016" rpy="1.5708 -1.80133e-17 -5.81708e-18"/>
      <geometry>
        <mesh filename="../meshes/stl/bts2_m2_6x8.stl"/>
      </geometry>
    </collision>
    <!-- Part dc15_a01_case_b_dummy_6 -->
    <visual>
      <origin xyz="1.65355e-10 -5.83178e-09 -0.026" rpy="-5.10217e-14 4.31015e-14 -3.14159"/>
      <geometry>
        <mesh filename="../meshes/stl/dc15_a01_case_b_dummy.stl"/>
      </geometry>
      <material name="dc15_a01_case_b_dummy_6_material">
        <color rgba="0.615686 0.811765 0.929412 1"/>
      </material>
    </visual>
    <collision>
      <origin xyz="1.65355e-10 -5.83178e-09 -0.026" rpy="-5.10217e-14 4.31015e-14 -3.14159"/>
      <geometry>
        <mesh filename="../meshes/stl/dc15_a01_case_b_dummy.stl"/>
      </geometry>
    </collision>
    <!-- Part b3b_eh_12 -->
    <visual>
      <origin xyz="0.0077 0.00899999 -0.0169" rpy="-1.5708 1.68558e-15 -1.5708"/>
      <geometry>
        <mesh filename="../meshes/stl/b3b_eh.stl"/>
      </geometry>
      <material name="b3b_eh_12_material">
        <color rgba="0.980392 0.713725 0.00392157 1"/>
      </material>
    </visual>
    <collision>
      <origin xyz="0.0077 0.00899999 -0.0169" rpy="-1.5708 1.68558e-15 -1.5708"/>
      <geometry>
        <mesh filename="../meshes/stl/b3b_eh.stl"/>
      </geometry>
    </collision>
    <!-- Part dc15_a01_case_m_dummy_6 -->
    <visual>
      <origin xyz="1.65356e-10 -5.83178e-09 -0.0065" rpy="-5.10217e-14 4.31015e-14 -3.14159"/>
      <geometry>
        <mesh filename="../meshes/stl/dc15_a01_case_m_dummy.stl"/>
      </geometry>
      <material name="dc15_a01_case_m_dummy_6_material">
        <color rgba="0.231373 0.380392 0.705882 1"/>
      </material>
    </visual>
    <collision>
      <origin xyz="1.65356e-10 -5.83178e-09 -0.0065" rpy="-5.10217e-14 4.31015e-14 -3.14159"/>
      <geometry>
        <mesh filename="../meshes/stl/dc15_a01_case_m_dummy.stl"/>
      </geometry>
    </collision>
    <!-- Part dc15_a01_case_f_dummy_6 -->
    <visual>
      <origin xyz="1.65356e-10 -5.83178e-09 -0.0065" rpy="-5.10217e-14 4.31015e-14 -3.14159"/>
      <geometry>
        <mesh filename="../meshes/stl/dc15_a01_case_f_dummy.stl"/>
      </geometry>
      <material name="dc15_a01_case_f_dummy_6_material">
        <color rgba="0.647059 0.647059 0.647059 1"/>
      </material>
    </visual>
    <collision>
      <origin xyz="1.65356e-10 -5.83178e-09 -0.0065" rpy="-5.10217e-14 4.31015e-14 -3.14159"/>
      <geometry>
        <mesh filename="../meshes/stl/dc15_a01_case_f_dummy.stl"/>
      </geometry>
    </collision>
    <!-- Part dc15_a01_led_cap2_dummy_6 -->
    <visual>
      <origin xyz="1.65357e-10 -0.00750001 -0.0241" rpy="-3.14159 4.85948e-14 2.78127e-13"/>
      <geometry>
        <mesh filename="../meshes/stl/dc15_a01_led_cap2_dummy.stl"/>
      </geometry>
      <material name="dc15_a01_led_cap2_dummy_6_material">
        <color rgba="0.498039 0.498039 0.498039 1"/>
      </material>
    </visual>
    <collision>
      <origin xyz="1.65357e-10 -0.00750001 -0.0241" rpy="-3.14159 4.85948e-14 2.78127e-13"/>
      <geometry>
        <mesh filename="../meshes/stl/dc15_a01_led_cap2_dummy.stl"/>
      </geometry>
    </collision>
    <!-- Part dc15_a01_horn_dummy_6 -->
    <visual>
      <origin xyz="1.65355e-10 -5.83177e-09 -0.0029" rpy="1.5708 -1.80133e-17 -5.81708e-18"/>
      <geometry>
        <mesh filename="../meshes/stl/dc15_a01_horn_dummy.stl"/>
      </geometry>
      <material name="dc15_a01_horn_dummy_6_material">
        <color rgba="0.980392 0.713725 0.00392157 1"/>
      </material>
    </visual>
    <collision>
      <origin xyz="1.65355e-10 -5.83177e-09 -0.0029" rpy="1.5708 -1.80133e-17 -5.81708e-18"/>
      <geometry>
        <mesh filename="../meshes/stl/dc15_a01_horn_dummy.stl"/>
      </geometry>
    </collision>
    <!-- Part b3b_eh_13 -->
    <visual>
      <origin xyz="-0.0077 0.0407 -0.0212" rpy="3.14159 1.5708 0"/>
      <geometry>
        <mesh filename="../meshes/stl/b3b_eh.stl"/>
      </geometry>
      <material name="b3b_eh_13_material">
        <color rgba="0.980392 0.713725 0.00392157 1"/>
      </material>
    </visual>
    <collision>
      <origin xyz="-0.0077 0.0407 -0.0212" rpy="3.14159 1.5708 0"/>
      <geometry>
        <mesh filename="../meshes/stl/b3b_eh.stl"/>
      </geometry>
    </collision>
    <!-- Part bts2_m2_6x8_7 -->
    <visual>
      <origin xyz="1.6533e-10 0.056 -0.0122" rpy="1.31601e-13 -4.10993e-14 3.49604e-13"/>
      <geometry>
        <mesh filename="../meshes/stl/bts2_m2_6x8.stl"/>
      </geometry>
      <material name="bts2_m2_6x8_7_material">
        <color rgba="0.647059 0.647059 0.647059 1"/>
      </material>
    </visual>
    <collision>
      <origin xyz="1.6533e-10 0.056 -0.0122" rpy="1.31601e-13 -4.10993e-14 3.49604e-13"/>
      <geometry>
        <mesh filename="../meshes/stl/bts2_m2_6x8.stl"/>
      </geometry>
    </collision>
    <!-- Part dc15_a01_case_b_dummy_7 -->
    <visual>
      <origin xyz="1.65341e-10 0.0316 -0.0122" rpy="1.5708 4.28047e-14 -3.14159"/>
      <geometry>
        <mesh filename="../meshes/stl/dc15_a01_case_b_dummy.stl"/>
      </geometry>
      <material name="dc15_a01_case_b_dummy_7_material">
        <color rgba="0.615686 0.811765 0.929412 1"/>
      </material>
    </visual>
    <collision>
      <origin xyz="1.65341e-10 0.0316 -0.0122" rpy="1.5708 4.28047e-14 -3.14159"/>
      <geometry>
        <mesh filename="../meshes/stl/dc15_a01_case_b_dummy.stl"/>
      </geometry>
    </collision>
    <!-- Part b3b_eh_14 -->
    <visual>
      <origin xyz="0.0077 0.0407 -0.0212" rpy="-3.14159 -1.5708 0"/>
      <geometry>
        <mesh filename="../meshes/stl/b3b_eh.stl"/>
      </geometry>
      <material name="b3b_eh_14_material">
        <color rgba="0.980392 0.713725 0.00392157 1"/>
      </material>
    </visual>
    <collision>
      <origin xyz="0.0077 0.0407 -0.0212" rpy="-3.14159 -1.5708 0"/>
      <geometry>
        <mesh filename="../meshes/stl/b3b_eh.stl"/>
      </geometry>
    </collision>
    <!-- Part dc15_a01_case_m_dummy_7 -->
    <visual>
      <origin xyz="1.65332e-10 0.0511 -0.0122" rpy="1.5708 4.28047e-14 -3.14159"/>
      <geometry>
        <mesh filename="../meshes/stl/dc15_a01_case_m_dummy.stl"/>
      </geometry>
      <material name="dc15_a01_case_m_dummy_7_material">
        <color rgba="0.231373 0.380392 0.705882 1"/>
      </material>
    </visual>
    <collision>
      <origin xyz="1.65332e-10 0.0511 -0.0122" rpy="1.5708 4.28047e-14 -3.14159"/>
      <geometry>
        <mesh filename="../meshes/stl/dc15_a01_case_m_dummy.stl"/>
      </geometry>
    </collision>
    <!-- Part dc15_a01_case_f_dummy_7 -->
    <visual>
      <origin xyz="1.65332e-10 0.0511 -0.0122" rpy="1.5708 4.28047e-14 -3.14159"/>
      <geometry>
        <mesh filename="../meshes/stl/dc15_a01_case_f_dummy.stl"/>
      </geometry>
      <material name="dc15_a01_case_f_dummy_7_material">
        <color rgba="0.647059 0.647059 0.647059 1"/>
      </material>
    </visual>
    <collision>
      <origin xyz="1.65332e-10 0.0511 -0.0122" rpy="1.5708 4.28047e-14 -3.14159"/>
      <geometry>
        <mesh filename="../meshes/stl/dc15_a01_case_f_dummy.stl"/>
      </geometry>
    </collision>
    <!-- Part dc15_a01_led_cap2_dummy_7 -->
    <visual>
      <origin xyz="1.65339e-10 0.0335 -0.0047" rpy="1.5708 -4.25519e-14 2.0631e-13"/>
      <geometry>
        <mesh filename="../meshes/stl/dc15_a01_led_cap2_dummy.stl"/>
      </geometry>
      <material name="dc15_a01_led_cap2_dummy_7_material">
        <color rgba="0.498039 0.498039 0.498039 1"/>
      </material>
    </visual>
    <collision>
      <origin xyz="1.65339e-10 0.0335 -0.0047" rpy="1.5708 -4.25519e-14 2.0631e-13"/>
      <geometry>
        <mesh filename="../meshes/stl/dc15_a01_led_cap2_dummy.stl"/>
      </geometry>
    </collision>
    <!-- Part dc15_a01_horn_dummy_7 -->
    <visual>
      <origin xyz="1.65329e-10 0.0547 -0.0122" rpy="1.31601e-13 -4.10993e-14 3.49604e-13"/>
      <geometry>
        <mesh filename="../meshes/stl/dc15_a01_horn_dummy.stl"/>
      </geometry>
      <material name="dc15_a01_horn_dummy_7_material">
        <color rgba="0.980392 0.713725 0.00392157 1"/>
      </material>
    </visual>
    <collision>
      <origin xyz="1.65329e-10 0.0547 -0.0122" rpy="1.31601e-13 -4.10993e-14 3.49604e-13"/>
      <geometry>
        <mesh filename="../meshes/stl/dc15_a01_horn_dummy.stl"/>
      </geometry>
    </collision>
  </link>
  <!-- Link elbow_2 -->
  <link name="elbow_2">
    <inertial>
      <origin xyz="0.000935936 -8.32667e-17 -0.0102895" rpy="0 0 0"/>
      <mass value="0.00742746"/>
      <inertia ixx="7.75241e-07" ixy="-2.52375e-14" ixz="-7.71319e-09" iyy="2.01225e-06" iyz="4.04826e-23" izz="1.69897e-06"/>
    </inertial>
    <!-- Part elbow_2 -->
    <visual>
      <origin xyz="0.0355 0.179517 0.094" rpy="1.5708 1.5708 0"/>
      <geometry>
        <mesh filename="../meshes/stl/elbow.stl"/>
      </geometry>
      <material name="elbow_2_material">
        <color rgba="0.972549 0.529412 0.00392157 1"/>
      </material>
    </visual>
    <collision>
      <origin xyz="0.0355 0.179517 0.094" rpy="1.5708 1.5708 0"/>
      <geometry>
        <mesh filename="../meshes/stl/elbow.stl"/>
      </geometry>
    </collision>
  </link>
  <!-- Link xl330___assembly_4 -->
  <link name="xl330___assembly_4">
    <inertial>
      <origin xyz="-3.22983e-06 0.0310227 -0.0130404" rpy="0 0 0"/>
      <mass value="0.0702024"/>
      <inertia ixx="3.54653e-05" ixy="-3.77028e-09" ixz="-1.27954e-11" iyy="9.41966e-06" iyz="1.44438e-06" izz="3.39167e-05"/>
    </inertial>
    <!-- Part hand_2 -->
    <visual>
      <origin xyz="-0.179517 -0.1953 0.0203006" rpy="1.5708 1.23921e-13 1.5708"/>
      <geometry>
        <mesh filename="../meshes/stl/hand.stl"/>
      </geometry>
      <material name="hand_2_material">
        <color rgba="0.972549 0.529412 0.00392157 1"/>
      </material>
    </visual>
    <collision>
      <origin xyz="-0.179517 -0.1953 0.0203006" rpy="1.5708 1.23921e-13 1.5708"/>
      <geometry>
        <mesh filename="../meshes/stl/hand.stl"/>
      </geometry>
    </collision>
    <!-- Part b3b_eh_15 -->
    <visual>
      <origin xyz="-0.0077 0.00899999 -0.0169" rpy="-1.5708 4.52419e-15 1.5708"/>
      <geometry>
        <mesh filename="../meshes/stl/b3b_eh.stl"/>
      </geometry>
      <material name="b3b_eh_15_material">
        <color rgba="0.980392 0.713725 0.00392157 1"/>
      </material>
    </visual>
    <collision>
      <origin xyz="-0.0077 0.00899999 -0.0169" rpy="-1.5708 4.52419e-15 1.5708"/>
      <geometry>
        <mesh filename="../meshes/stl/b3b_eh.stl"/>
      </geometry>
    </collision>
    <!-- Part bts2_m2_6x8_8 -->
    <visual>
      <origin xyz="1.65355e-10 -5.83177e-09 -0.0016" rpy="1.5708 9.02052e-18 5.56109e-17"/>
      <geometry>
        <mesh filename="../meshes/stl/bts2_m2_6x8.stl"/>
      </geometry>
      <material name="bts2_m2_6x8_8_material">
        <color rgba="0.647059 0.647059 0.647059 1"/>
      </material>
    </visual>
    <collision>
      <origin xyz="1.65355e-10 -5.83177e-09 -0.0016" rpy="1.5708 9.02052e-18 5.56109e-17"/>
      <geometry>
        <mesh filename="../meshes/stl/bts2_m2_6x8.stl"/>
      </geometry>
    </collision>
    <!-- Part dc15_a01_case_b_dummy_8 -->
    <visual>
      <origin xyz="1.65356e-10 -5.83178e-09 -0.026" rpy="-1.02571e-14 7.22916e-15 -3.14159"/>
      <geometry>
        <mesh filename="../meshes/stl/dc15_a01_case_b_dummy.stl"/>
      </geometry>
      <material name="dc15_a01_case_b_dummy_8_material">
        <color rgba="0.615686 0.811765 0.929412 1"/>
      </material>
    </visual>
    <collision>
      <origin xyz="1.65356e-10 -5.83178e-09 -0.026" rpy="-1.02571e-14 7.22916e-15 -3.14159"/>
      <geometry>
        <mesh filename="../meshes/stl/dc15_a01_case_b_dummy.stl"/>
      </geometry>
    </collision>
    <!-- Part b3b_eh_16 -->
    <visual>
      <origin xyz="0.0077 0.00899999 -0.0169" rpy="-1.5708 -5.8897e-15 -1.5708"/>
      <geometry>
        <mesh filename="../meshes/stl/b3b_eh.stl"/>
      </geometry>
      <material name="b3b_eh_16_material">
        <color rgba="0.980392 0.713725 0.00392157 1"/>
      </material>
    </visual>
    <collision>
      <origin xyz="0.0077 0.00899999 -0.0169" rpy="-1.5708 -5.8897e-15 -1.5708"/>
      <geometry>
        <mesh filename="../meshes/stl/b3b_eh.stl"/>
      </geometry>
    </collision>
    <!-- Part dc15_a01_case_m_dummy_8 -->
    <visual>
      <origin xyz="1.65355e-10 -5.83178e-09 -0.0065" rpy="-1.02571e-14 7.22916e-15 -3.14159"/>
      <geometry>
        <mesh filename="../meshes/stl/dc15_a01_case_m_dummy.stl"/>
      </geometry>
      <material name="dc15_a01_case_m_dummy_8_material">
        <color rgba="0.231373 0.380392 0.705882 1"/>
      </material>
    </visual>
    <collision>
      <origin xyz="1.65355e-10 -5.83178e-09 -0.0065" rpy="-1.02571e-14 7.22916e-15 -3.14159"/>
      <geometry>
        <mesh filename="../meshes/stl/dc15_a01_case_m_dummy.stl"/>
      </geometry>
    </collision>
    <!-- Part dc15_a01_case_f_dummy_8 -->
    <visual>
      <origin xyz="1.65355e-10 -5.83178e-09 -0.0065" rpy="-1.02571e-14 7.22916e-15 -3.14159"/>
      <geometry>
        <mesh filename="../meshes/stl/dc15_a01_case_f_dummy.stl"/>
      </geometry>
      <material name="dc15_a01_case_f_dummy_8_material">
        <color rgba="0.647059 0.647059 0.647059 1"/>
      </material>
    </visual>
    <collision>
      <origin xyz="1.65355e-10 -5.83178e-09 -0.0065" rpy="-1.02571e-14 7.22916e-15 -3.14159"/>
      <geometry>
        <mesh filename="../meshes/stl/dc15_a01_case_f_dummy.stl"/>
      </geometry>
    </collision>
    <!-- Part dc15_a01_led_cap2_dummy_8 -->
    <visual>
      <origin xyz="1.65356e-10 -0.00750001 -0.0241" rpy="-3.14159 -7.04821e-15 1.37001e-15"/>
      <geometry>
        <mesh filename="../meshes/stl/dc15_a01_led_cap2_dummy.stl"/>
      </geometry>
      <material name="dc15_a01_led_cap2_dummy_8_material">
        <color rgba="0.498039 0.498039 0.498039 1"/>
      </material>
    </visual>
    <collision>
      <origin xyz="1.65356e-10 -0.00750001 -0.0241" rpy="-3.14159 -7.04821e-15 1.37001e-15"/>
      <geometry>
        <mesh filename="../meshes/stl/dc15_a01_led_cap2_dummy.stl"/>
      </geometry>
    </collision>
    <!-- Part dc15_a01_horn_dummy_8 -->
    <visual>
      <origin xyz="1.65355e-10 -5.83177e-09 -0.0029" rpy="1.5708 9.02052e-18 5.56109e-17"/>
      <geometry>
        <mesh filename="../meshes/stl/dc15_a01_horn_dummy.stl"/>
      </geometry>
      <material name="dc15_a01_horn_dummy_8_material">
        <color rgba="0.980392 0.713725 0.00392157 1"/>
      </material>
    </visual>
    <collision>
      <origin xyz="1.65355e-10 -5.83177e-09 -0.0029" rpy="1.5708 9.02052e-18 5.56109e-17"/>
      <geometry>
        <mesh filename="../meshes/stl/dc15_a01_horn_dummy.stl"/>
      </geometry>
    </collision>
  </link>
  <!-- Joint from elbow_2 to xl330___assembly_4 -->
  <joint name="right_arm_4" type="revolute">
    <origin xyz="0.0142997 -3.60822e-16 -0.0195" rpy="-1.5708 0.465808 -1.5708"/>
    <parent link="elbow_2"/>
    <child link="xl330___assembly_4"/>
    <axis xyz="0 0 1"/>
    <limit effort="10" velocity="10" lower="-3.141592653589793" upper="3.141592653589793"/>
  </joint>
  <!-- Joint from xl330___assembly_3 to elbow_2 -->
  <joint name="right_arm_3" type="revolute">
    <origin xyz="1.65328e-10 0.0576 -0.0122" rpy="1.5708 1.06827 6.22993e-13"/>
    <parent link="xl330___assembly_3"/>
    <child link="elbow_2"/>
    <axis xyz="0 0 1"/>
    <limit effort="10" velocity="10" lower="-3.141592653589793" upper="3.141592653589793"/>
  </joint>
  <!-- Joint from right_shoulder to xl330___assembly_3 -->
  <joint name="right_arm_2" type="revolute">
    <origin xyz="0.0142997 -3.05311e-16 -0.0245" rpy="-1.5708 -0.123525 -1.5708"/>
    <parent link="right_shoulder"/>
    <child link="xl330___assembly_3"/>
    <axis xyz="0 0 1"/>
    <limit effort="10" velocity="10" lower="-3.141592653589793" upper="3.141592653589793"/>
  </joint>
  <!-- Joint from arm_left to right_shoulder -->
  <joint name="right_arm_1" type="revolute">
    <origin xyz="-0.089 0.0355 0.179517" rpy="-1.5708 -0.301937 -1.5708"/>
    <parent link="arm_left"/>
    <child link="right_shoulder"/>
    <axis xyz="0 0 1"/>
    <limit effort="10" velocity="10" lower="-3.141592653589793" upper="3.141592653589793"/>
  </joint>
</robot>
